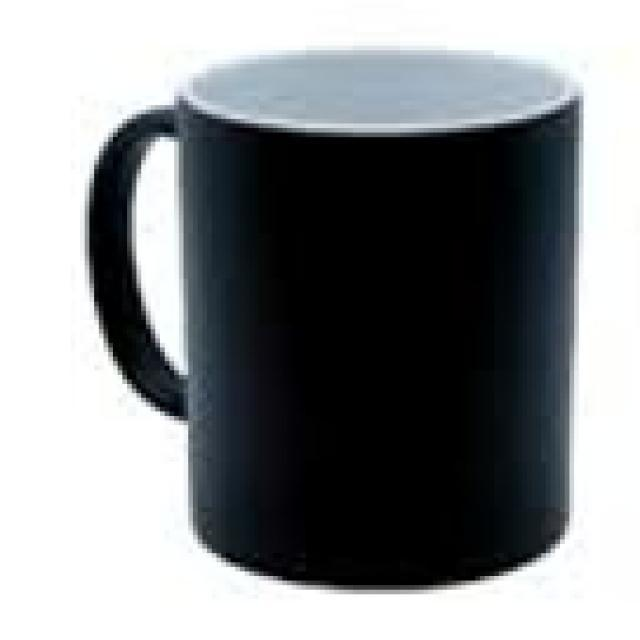taza: (83, 49, 581, 594)
